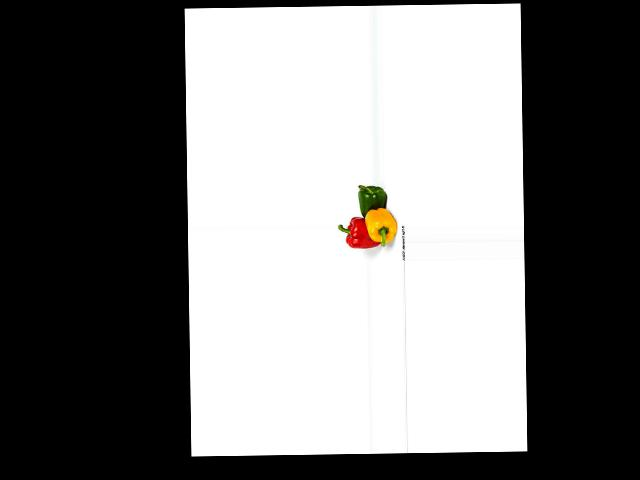bell_pepper: (338, 216, 378, 251)
